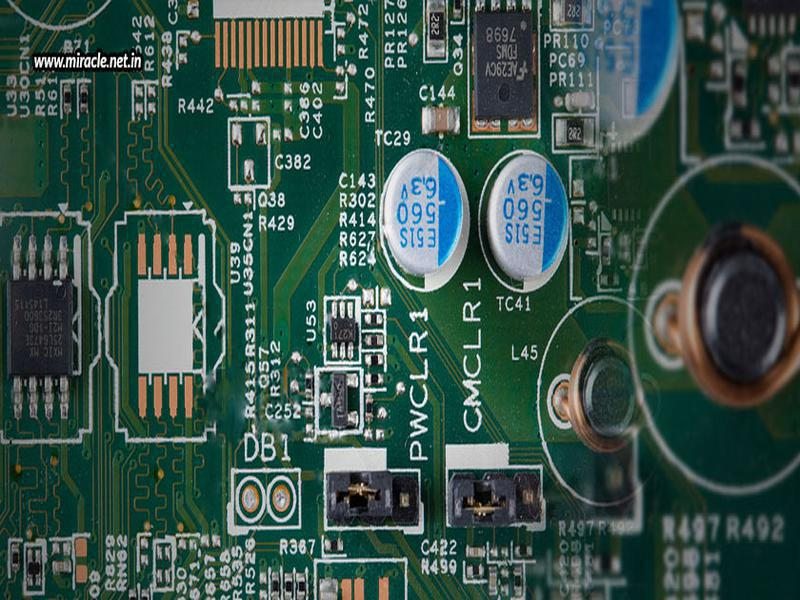SMD capacitor: (466, 547, 485, 559)
SMD resistor: (61, 83, 74, 116), (79, 82, 90, 114), (269, 572, 281, 600), (282, 572, 295, 597), (134, 85, 144, 115), (295, 574, 306, 599), (147, 85, 156, 113), (465, 564, 482, 578)
